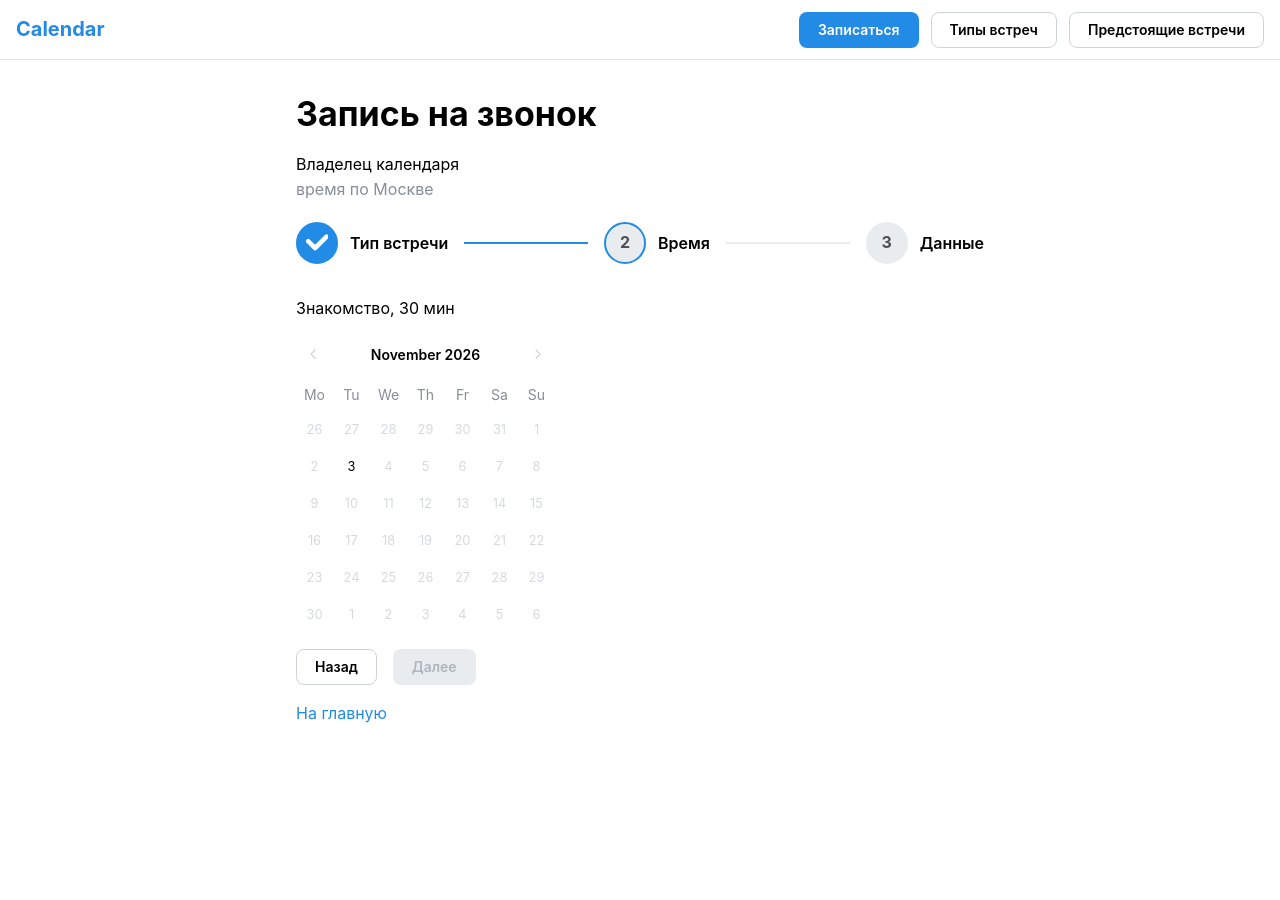
it: шаг «Данные» › показывает сводку: тип, день, начало–конец
Click the button named "3 November 2026" at (352, 467), box [334,449,370,485]
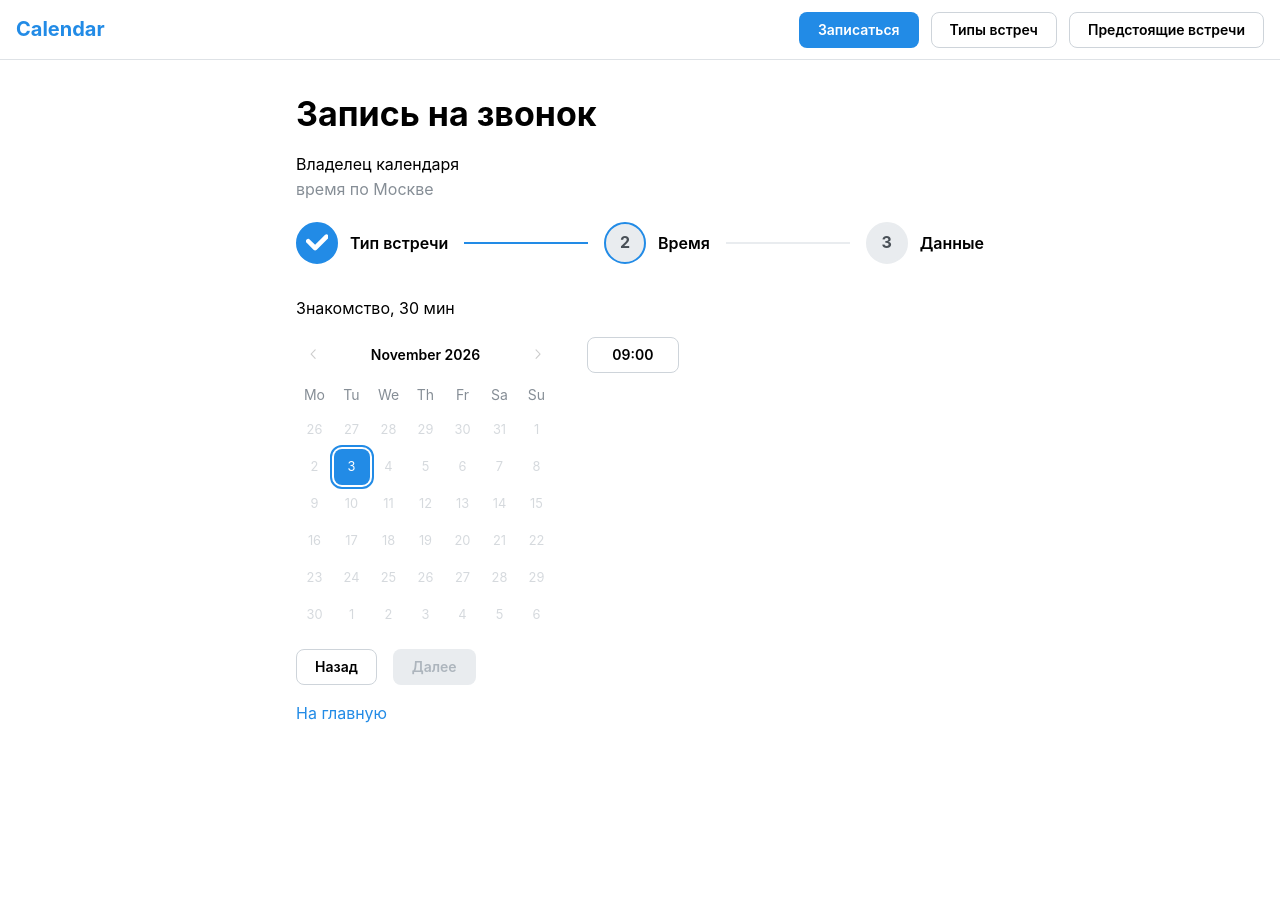
Click the button "09:00" at (633, 355), box [587,337,679,373]
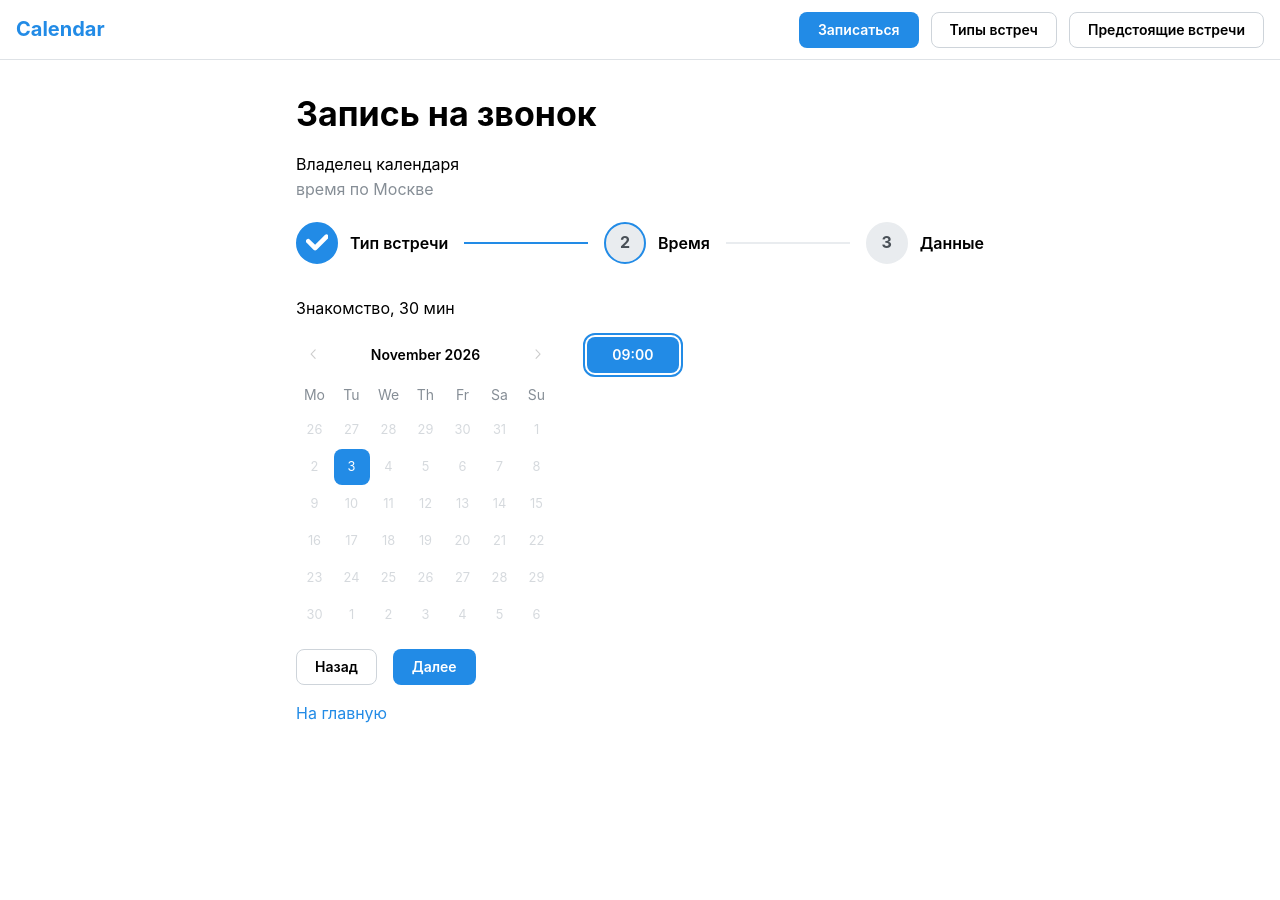
Click the button "Далее" at (434, 667), box [393,649,476,685]
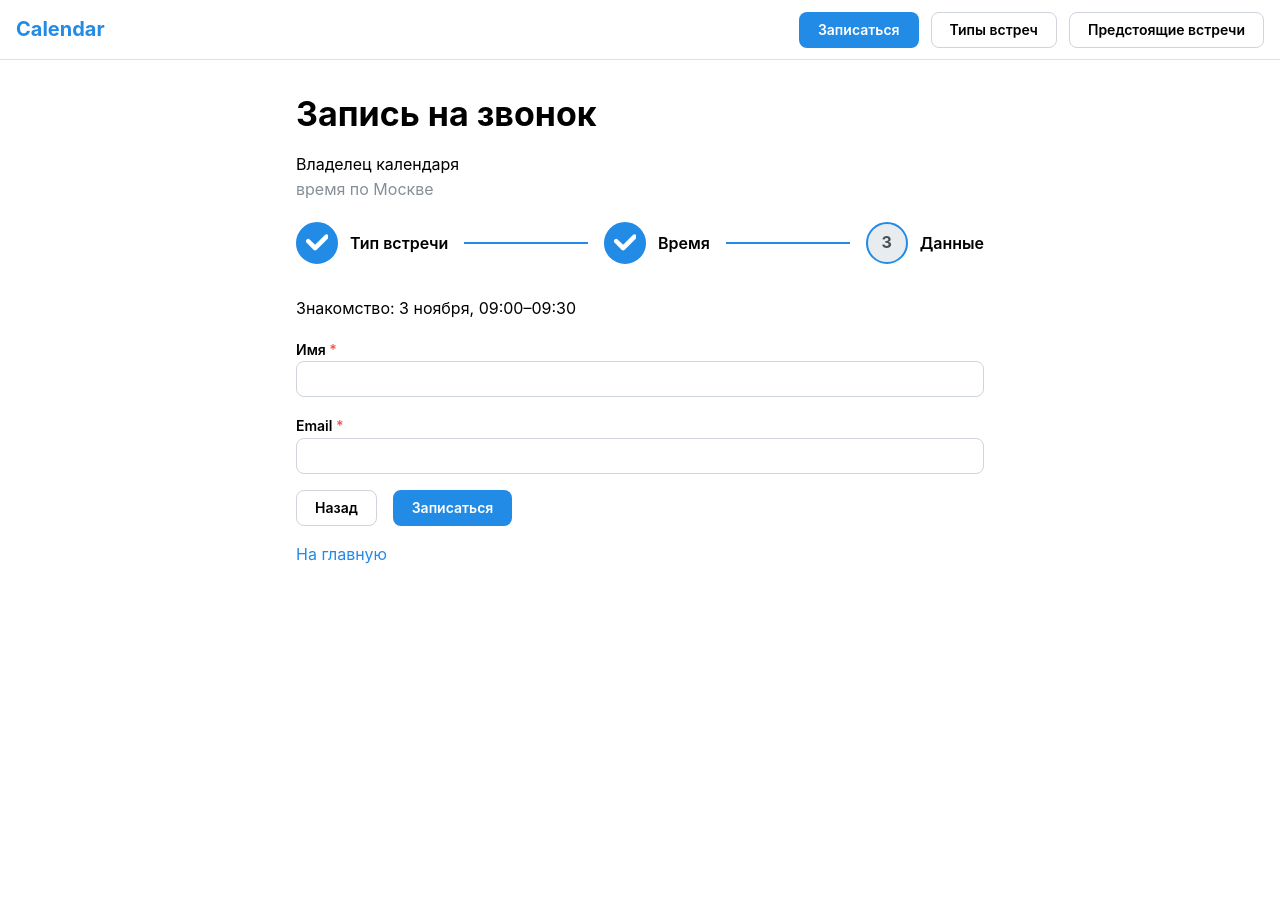
Expected: the text "Знакомство: 3 ноября, 09:00–09:30" is shown, [296,298,576,318]
